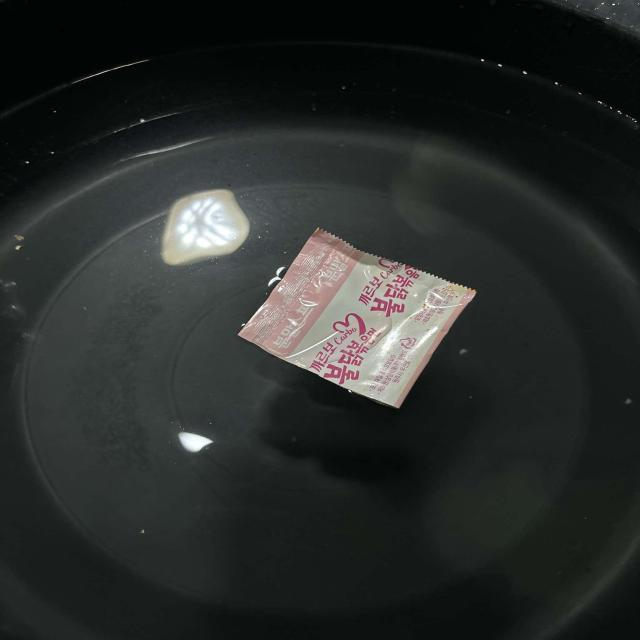Plastic Wrapper: (239, 228, 475, 408)
